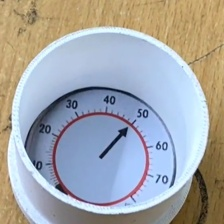gauge: (25, 88, 175, 208)
